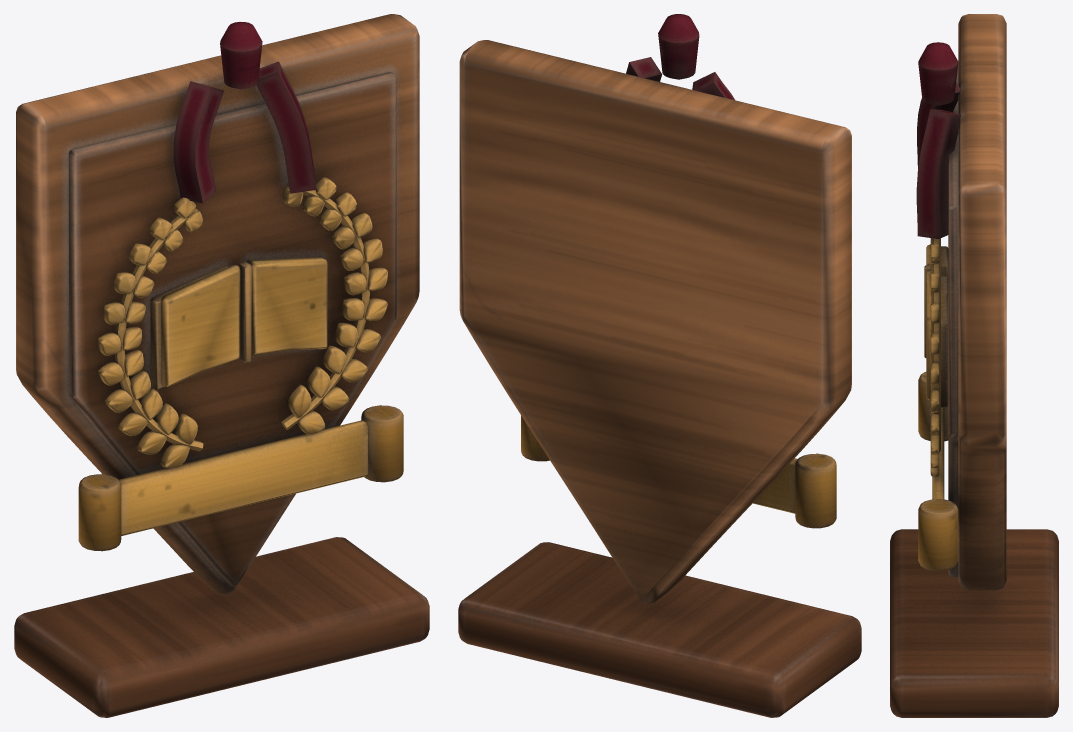
Rendered from HonourRollPlaque.fbx.
3 views of the same model, side by side, from view 1: azimuth 30°, elevation 25°; view 2: azimuth 150°, elevation 25°; view 3: azimuth 270°, elevation 25° (orthographic). The views are drawn at different scales.
Parts seen in each view (by area): view 1: HonourRollPlaque; view 2: HonourRollPlaque; view 3: HonourRollPlaque.
Boxes of the visible parts, <box> form: HonourRollPlaque: <box>14,14,429,717</box>; HonourRollPlaque: <box>458,14,861,717</box>; HonourRollPlaque: <box>890,14,1058,717</box>.
Size of the model in its own units: 104 by 165 by 42.
